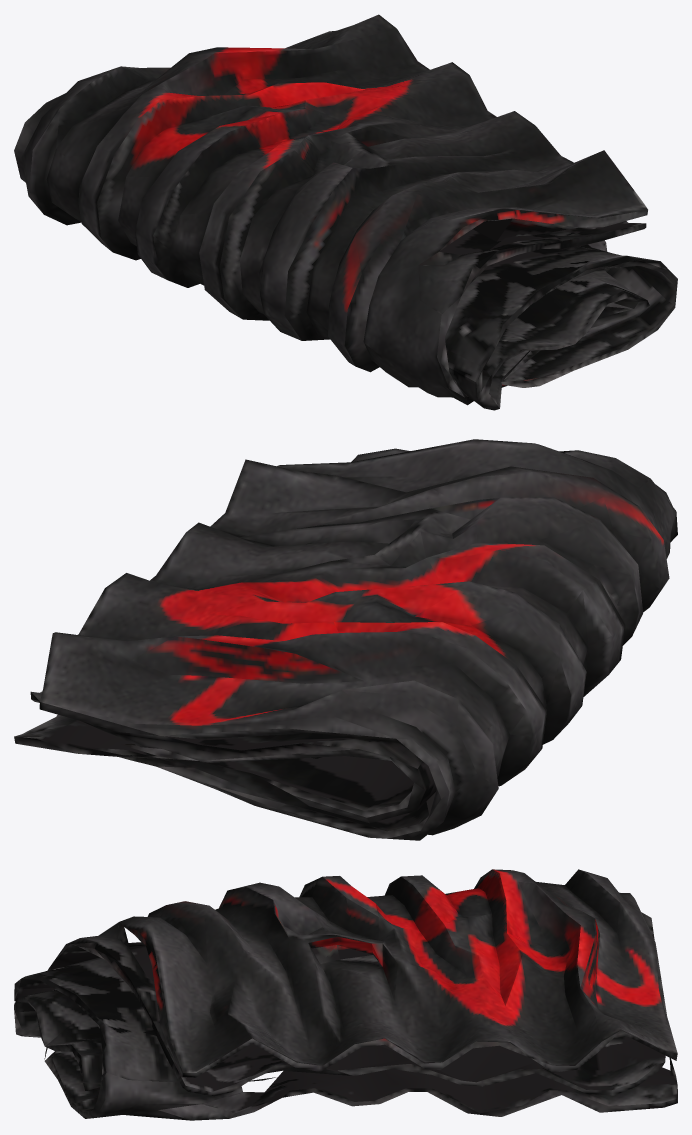
The model's file is item_6nwcape.glb.
3 renders of one model, top to bottom at view 1: azimuth 30°, elevation 25°; view 2: azimuth 150°, elevation 25°; view 3: azimuth 270°, elevation 25°, orthographic. The views are drawn at different scales.
Visible parts, largest first — view 1: equipment_6nwcape; view 2: equipment_6nwcape; view 3: equipment_6nwcape.
Boxes of the visible parts, <box> form: equipment_6nwcape: <box>14,14,677,410</box>; equipment_6nwcape: <box>14,439,677,840</box>; equipment_6nwcape: <box>14,869,677,1120</box>.
Size of the model in its own units: 0.6612 by 0.2391 by 1.
Materials: 1 (1 with a texture image).
